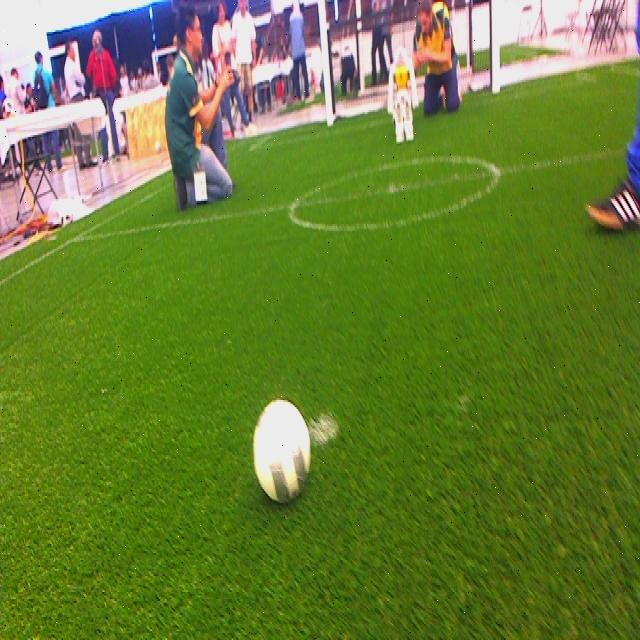ball: (251, 398, 310, 502)
goalpost: (317, 4, 333, 126), (490, 2, 500, 94)
